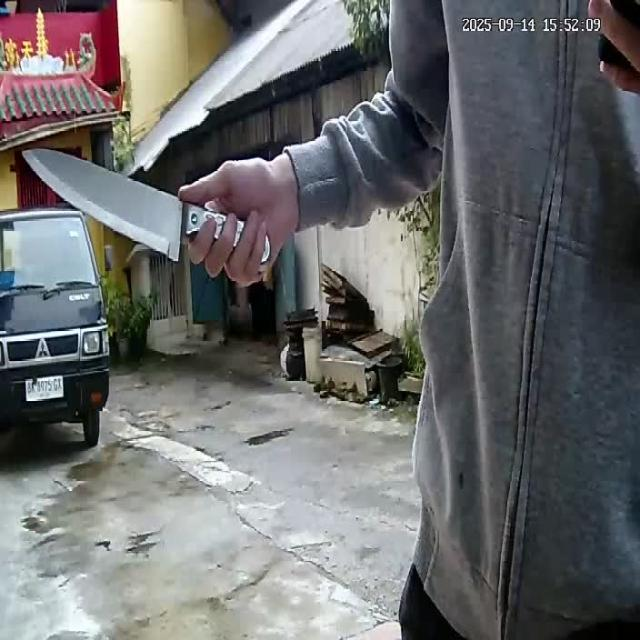senjata_tajam: (21, 145, 188, 267)
